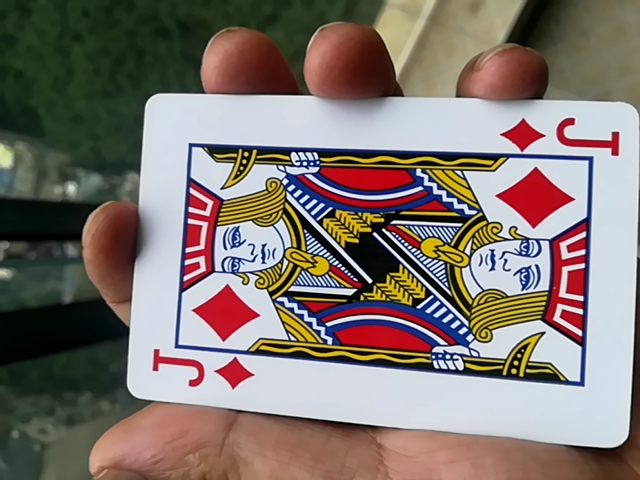fk j: (111, 105, 637, 445)
